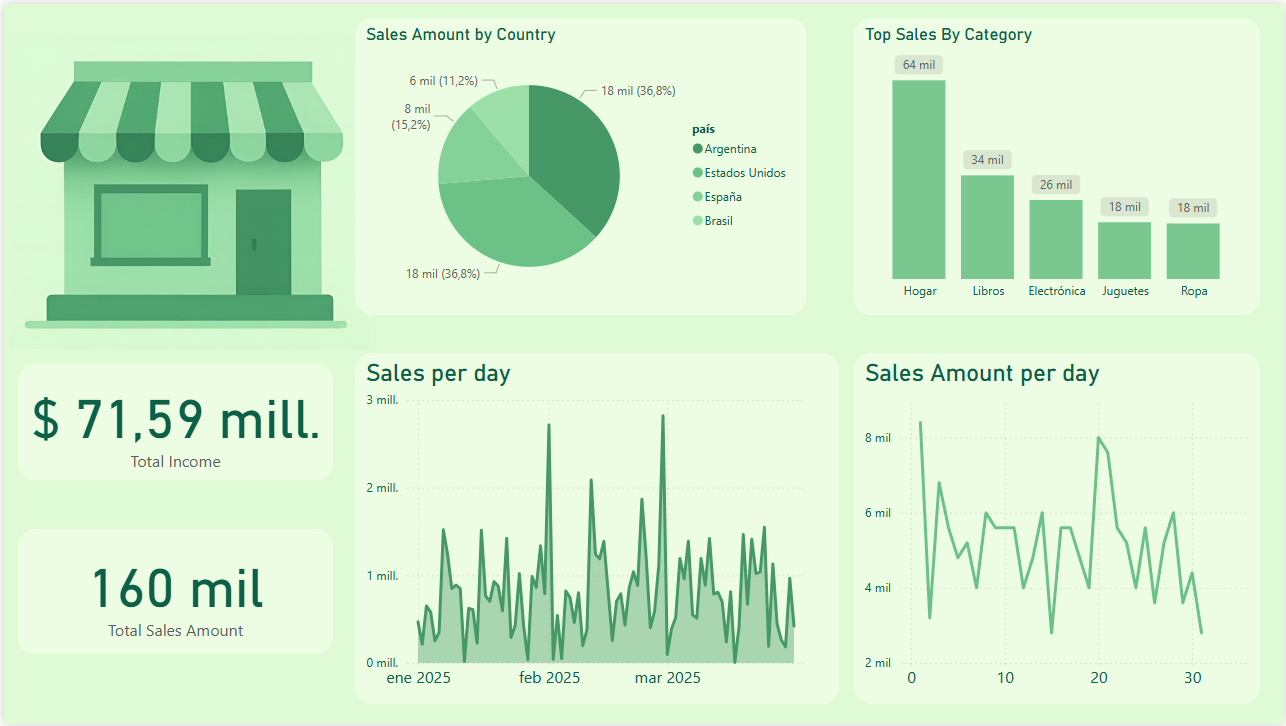

This screenshot's page, from the dashboard's own definition file:
{"tool":"powerbi","page":{"name":"Página 1","canvas":[1280,720],"ordinal":0},"visuals":[{"type":"image","box":[0,0,370,376],"z":0},{"type":"card","fields":{"Values":["Sum(ventas.total)"]},"box":[14,360,315,116],"z":1000},{"type":"card","fields":{"Values":["Sum(ventas.Cant ventas)"]},"box":[14,525,315,125],"z":2000},{"type":"lineChart","title":"Sales Amount per day ","fields":{"Category":["ventas.fecha.Variación.Jerarquía de fechas.Día"],"Y":["Sum(ventas.Cant ventas)"]},"box":[850,349,406,351],"z":3000},{"type":"columnChart","title":"Top Sales By Category","fields":{"Category":["productos.categoría"],"Y":["Sum(ventas.Cant ventas)"]},"box":[850,14,406,297],"z":4000},{"type":"pieChart","title":"Sales Amount by Country","fields":{"Category":["sucursales.país"],"Y":["Sum(ventas.Cant ventas)"]},"box":[351,14,451,297],"z":5000},{"type":"stackedAreaChart","title":"Sales per day ","fields":{"Y":["Sum(ventas.total)"],"Category":["ventas.fecha.Variación.Jerarquía de fechas.Año","ventas.fecha.Variación.Jerarquía de fechas.Trimestre","ventas.fecha.Variación.Jerarquía de fechas.Mes","ventas.fecha.Variación.Jerarquía de fechas.Día"]},"box":[351,349,484,351],"z":6000}]}

Visuals, with their boxes in screenshot pixels (x1, y1, x2, y2), scaled from the page's 1280x720 canvas onto the 1286x726 screenshot:
image: <bbox>0, 0, 372, 379</bbox>
card - Sum(ventas.total): <bbox>14, 363, 331, 480</bbox>
card - Sum(ventas.Cant ventas): <bbox>14, 529, 331, 655</bbox>
"Sales Amount per day " lineChart: <bbox>854, 352, 1262, 706</bbox>
"Top Sales By Category" columnChart: <bbox>854, 14, 1262, 314</bbox>
"Sales Amount by Country" pieChart: <bbox>353, 14, 806, 314</bbox>
"Sales per day " stackedAreaChart: <bbox>353, 352, 839, 706</bbox>
